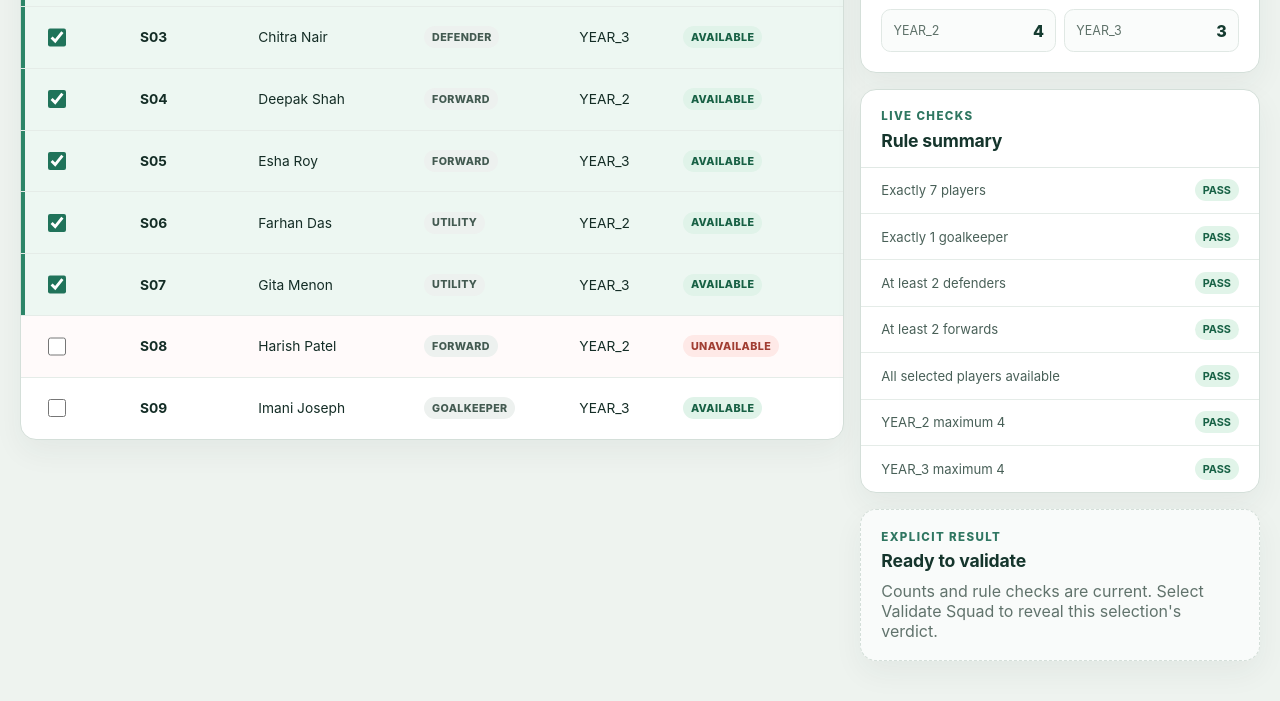
Test case: Sports Squad Constraint Checker UI › allows more than seven players to be selected and reports the invalid squad
(page scrolled)
Click the checkbox next to "S08".
click(57, 346)  # box [48,337,66,356]
(page scrolled)
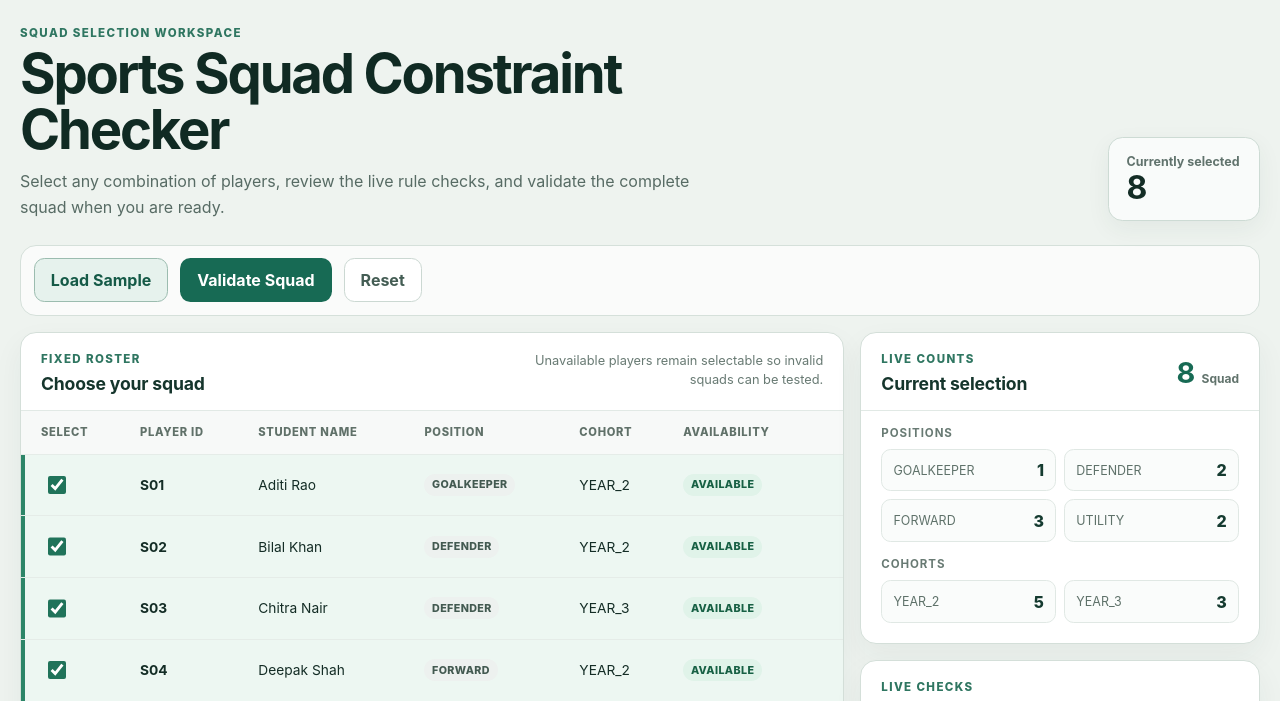
Click the button "Validate Squad".
click(256, 280)  # box [180,258,332,302]
(page scrolled)
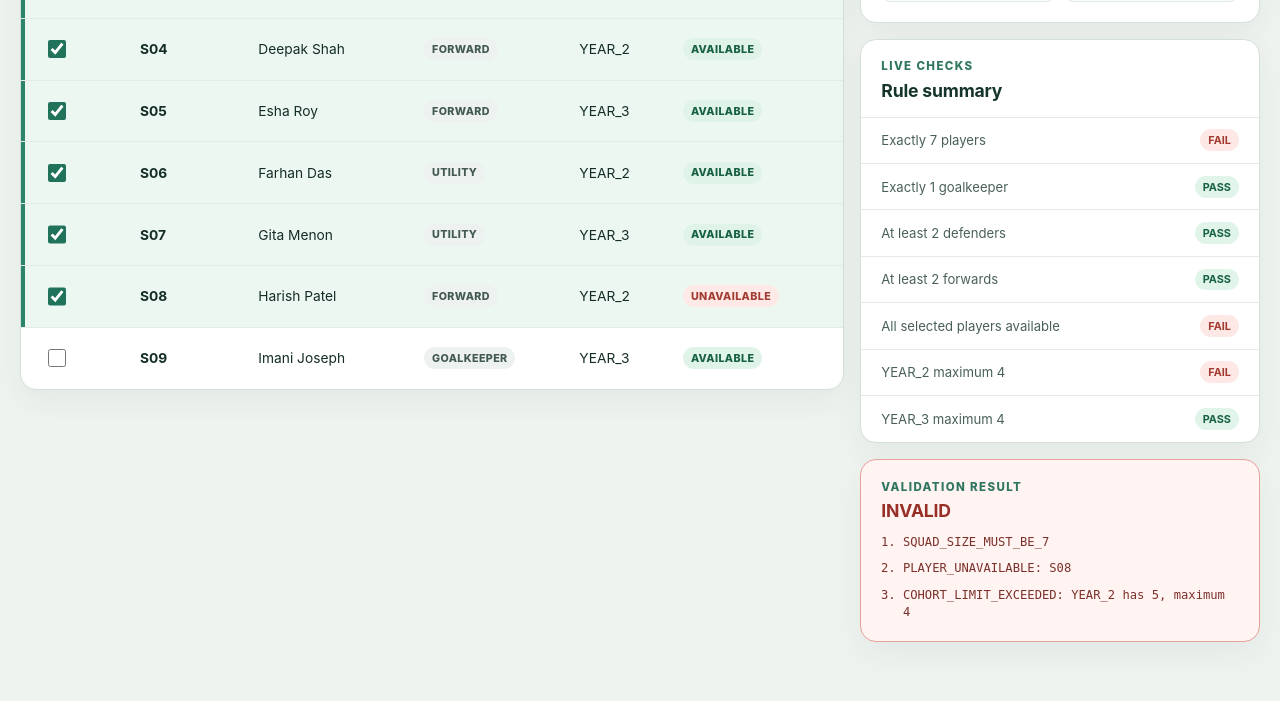
Now the heading "INVALID" is shown, box [881,500,951,521]
Now the list item "SQUAD_SIZE_MUST_BE_7" is shown, box [903,535,1049,549]
